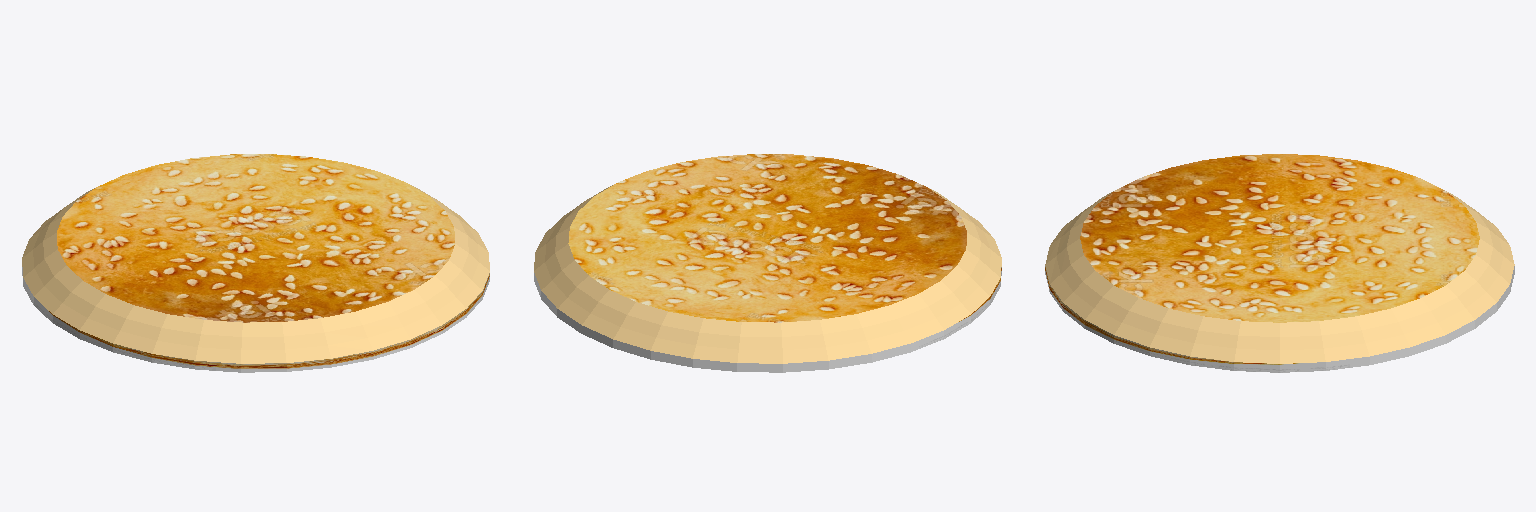
The picture shows the model from 3 angles: view 1: azimuth 30°, elevation 25°; view 2: azimuth 150°, elevation 25°; view 3: azimuth 270°, elevation 25°; orthographic projection.
Visible parts, largest first — view 1: Cilindro.014; view 2: Cilindro.014; view 3: Cilindro.014.
Boxes of the visible parts, <box> form: Cilindro.014: <box>22,154,489,372</box>; Cilindro.014: <box>534,154,1001,372</box>; Cilindro.014: <box>1045,154,1514,372</box>.
Bounding box in the file's own units: 0.18 × 0.015 × 0.18.
3 materials, 3 textured.